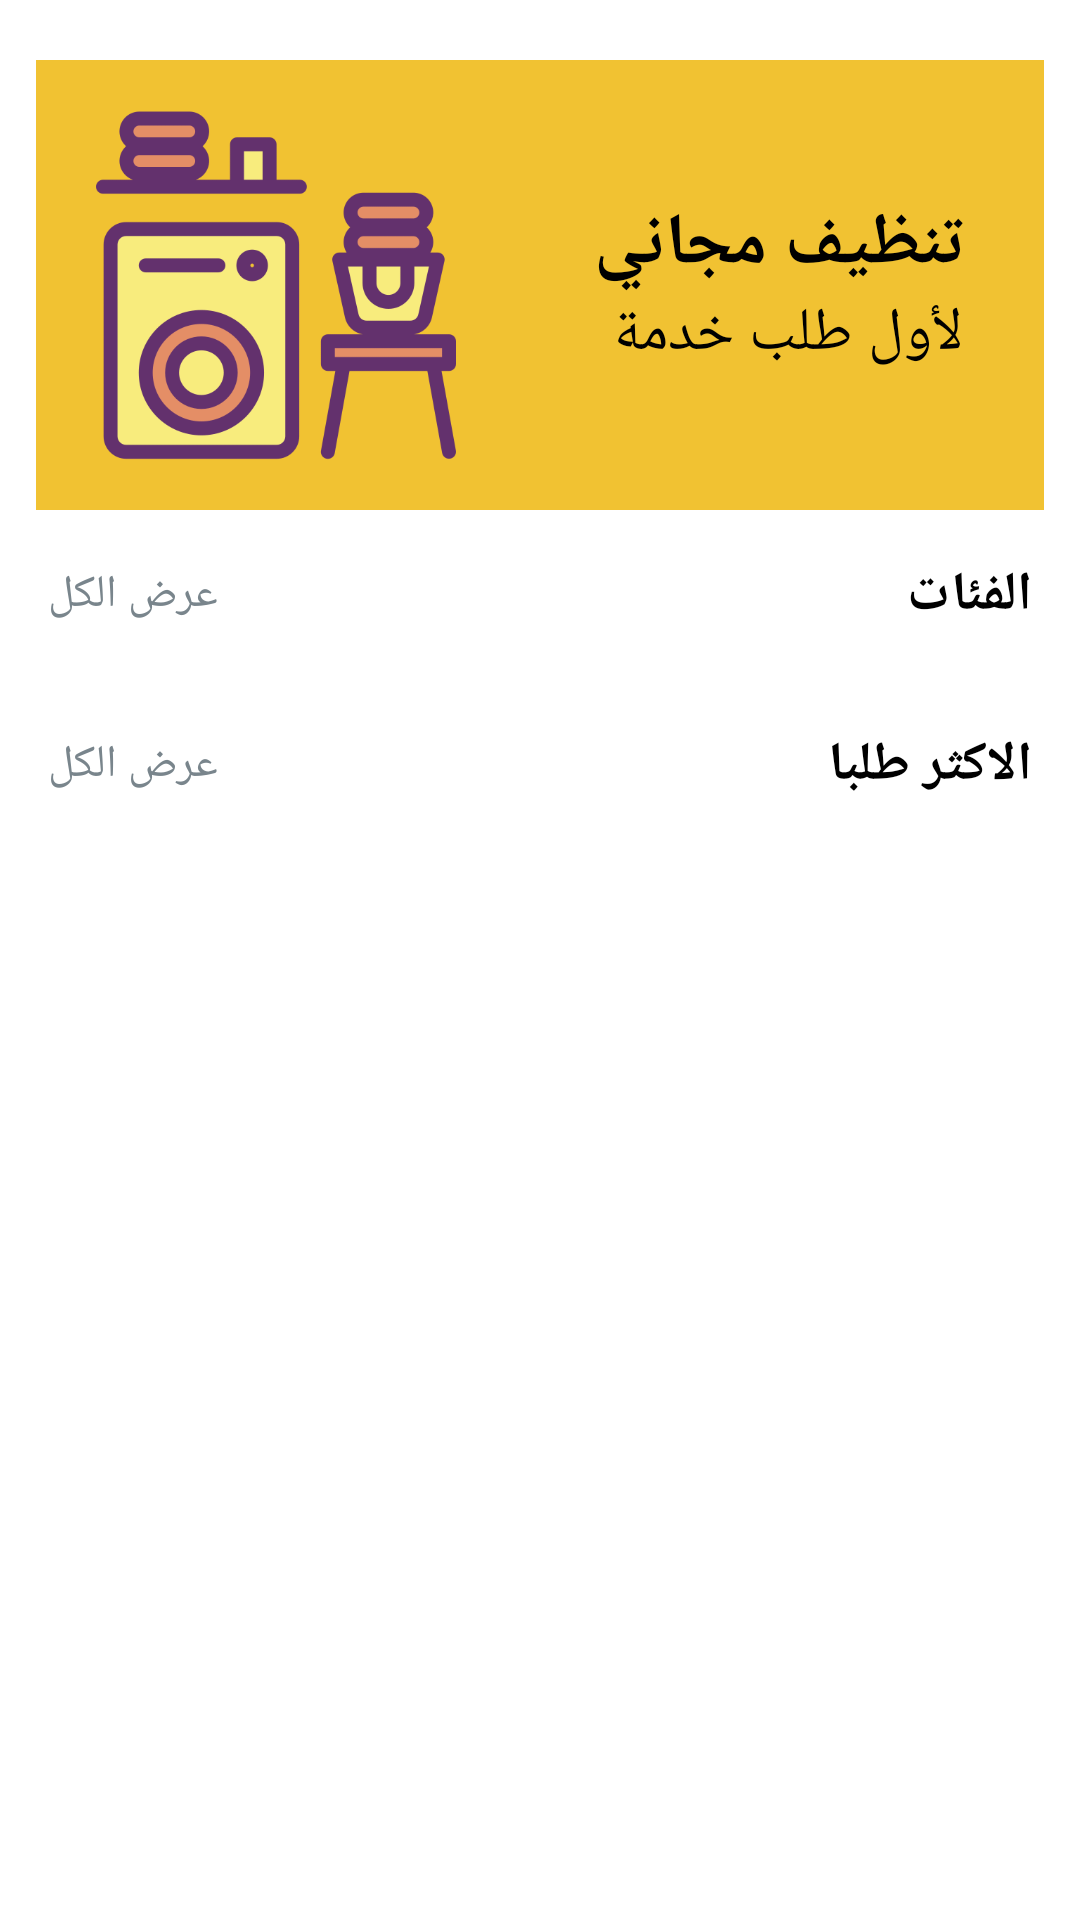

Screen size 1080 × 1920. Icon name, then its center in pixels as (x=x, y=y):
laundry: (x=276, y=285)
